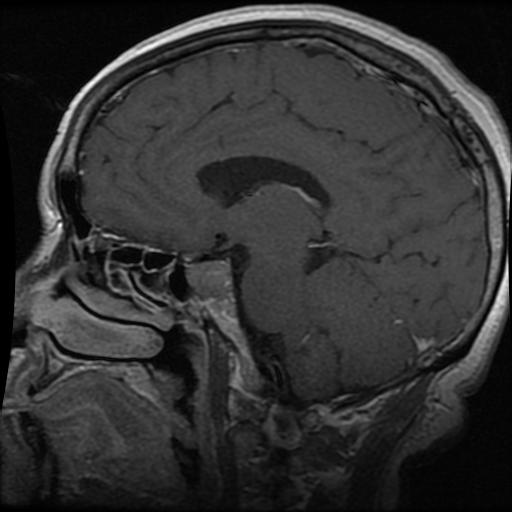Pituirity_tumour: (186, 258, 235, 298)
